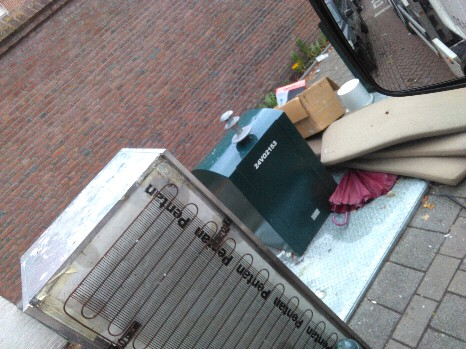Container: (190, 111, 373, 239)
Rest: (343, 85, 466, 209), (267, 74, 344, 124)
